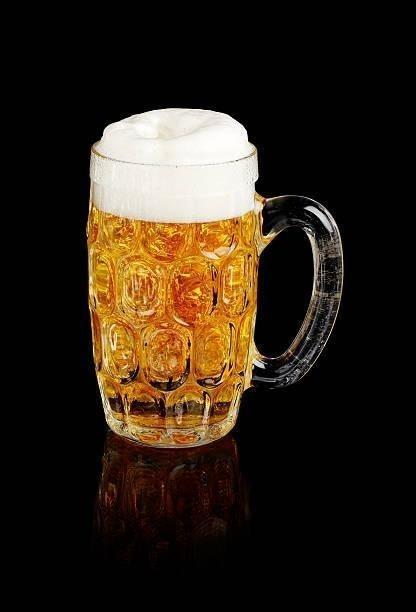glass-mug: (83, 117, 346, 450)
